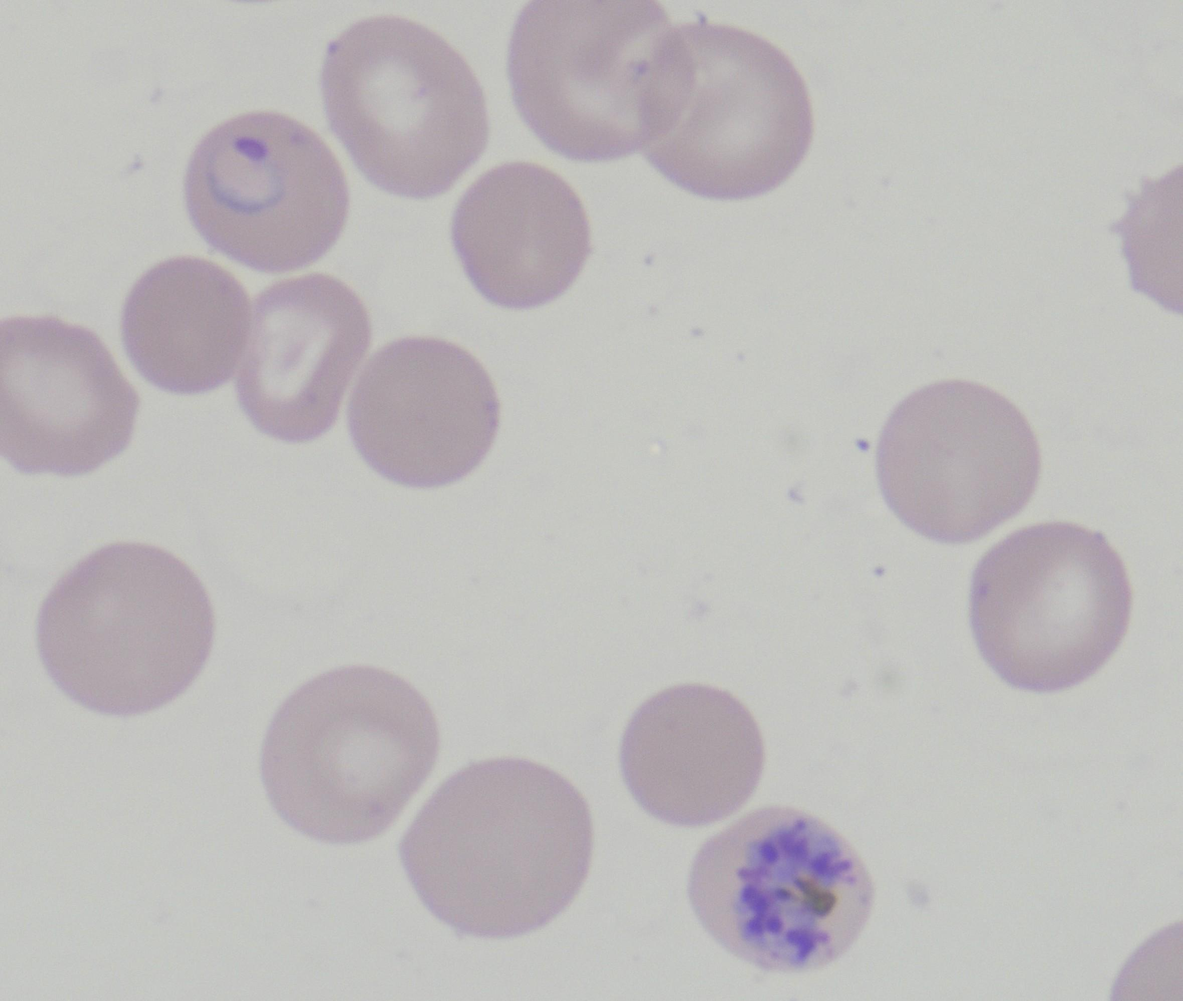Infected: (689, 805, 875, 976), (184, 111, 347, 273)
Uninfected: (400, 758, 593, 939), (260, 667, 440, 844), (36, 542, 213, 715), (321, 17, 489, 197), (639, 25, 812, 197), (967, 523, 1131, 691), (509, 1, 683, 159), (878, 382, 1045, 543), (347, 337, 498, 487), (0, 316, 136, 477), (233, 275, 366, 439), (618, 685, 764, 827), (451, 163, 588, 308), (122, 258, 251, 397)
